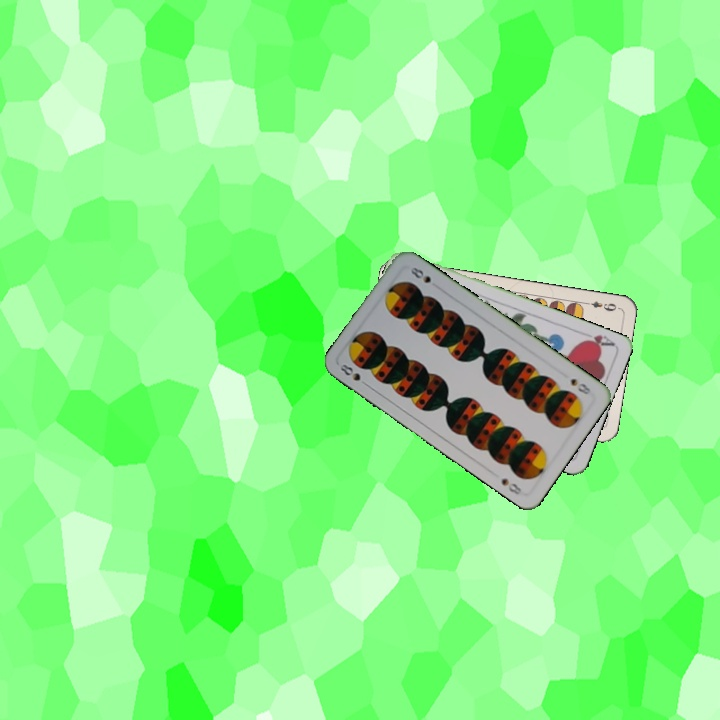E9: (580, 297, 621, 314)
HA: (577, 328, 617, 351)
S8: (334, 360, 372, 389), (566, 374, 594, 397)
